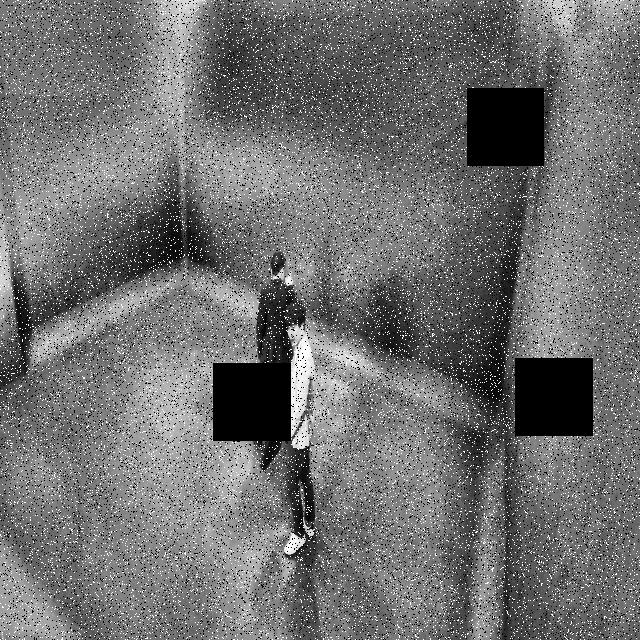assult: (244, 234, 325, 567)
